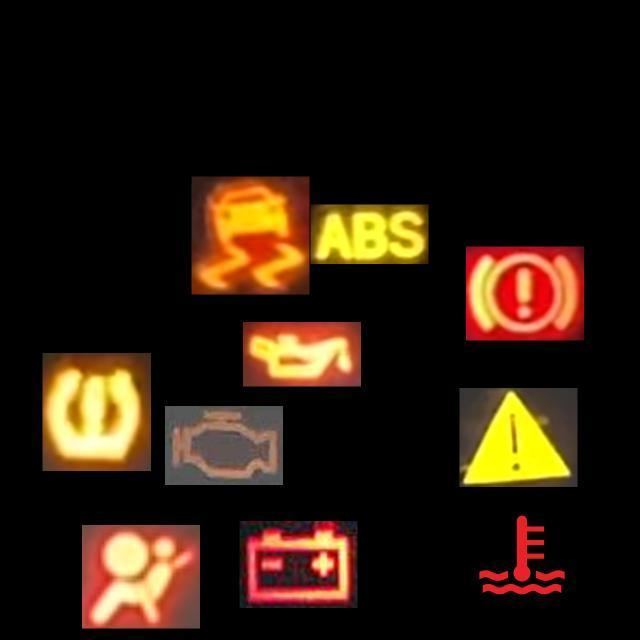Central Warning lamp: (460, 388, 578, 487)
Engine cooling system: (463, 496, 581, 614)
